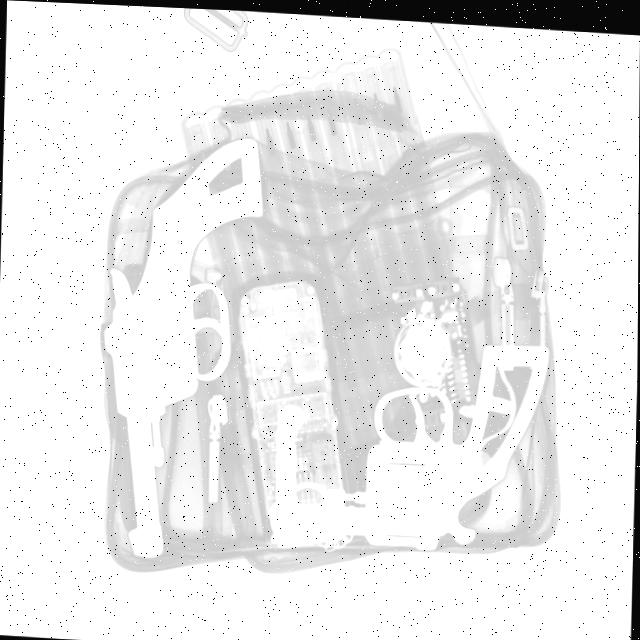pistol: (94, 121, 266, 566), (267, 322, 551, 555)
